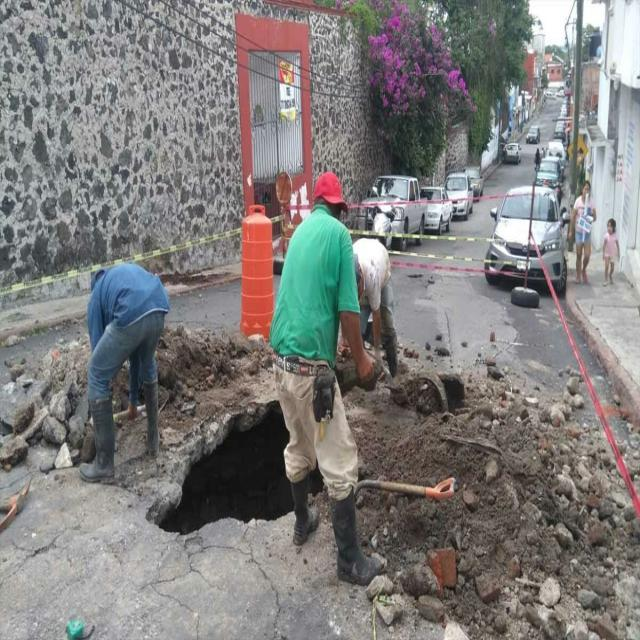Buraco: (142, 398, 323, 538)
